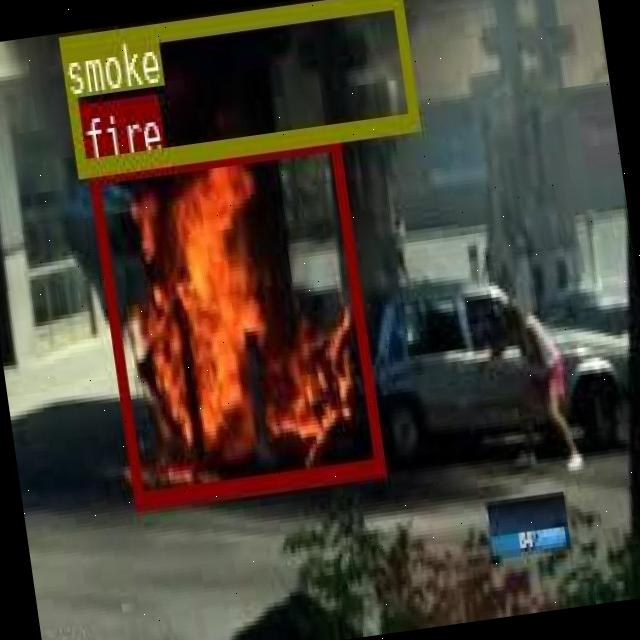fire: (87, 129, 384, 508)
smoke: (58, 0, 419, 173)
